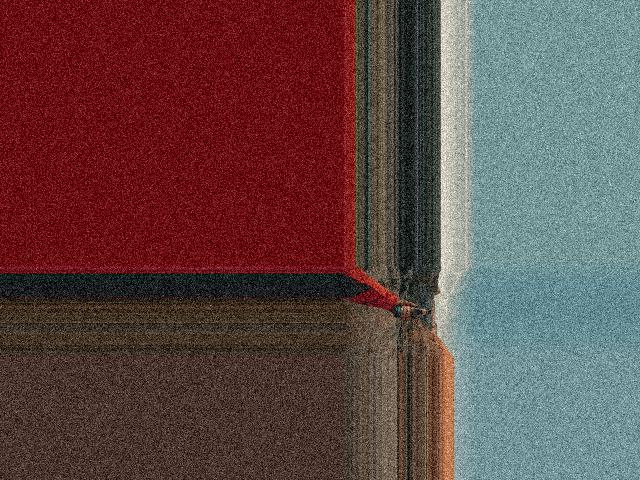beer: (394, 305, 431, 318)
